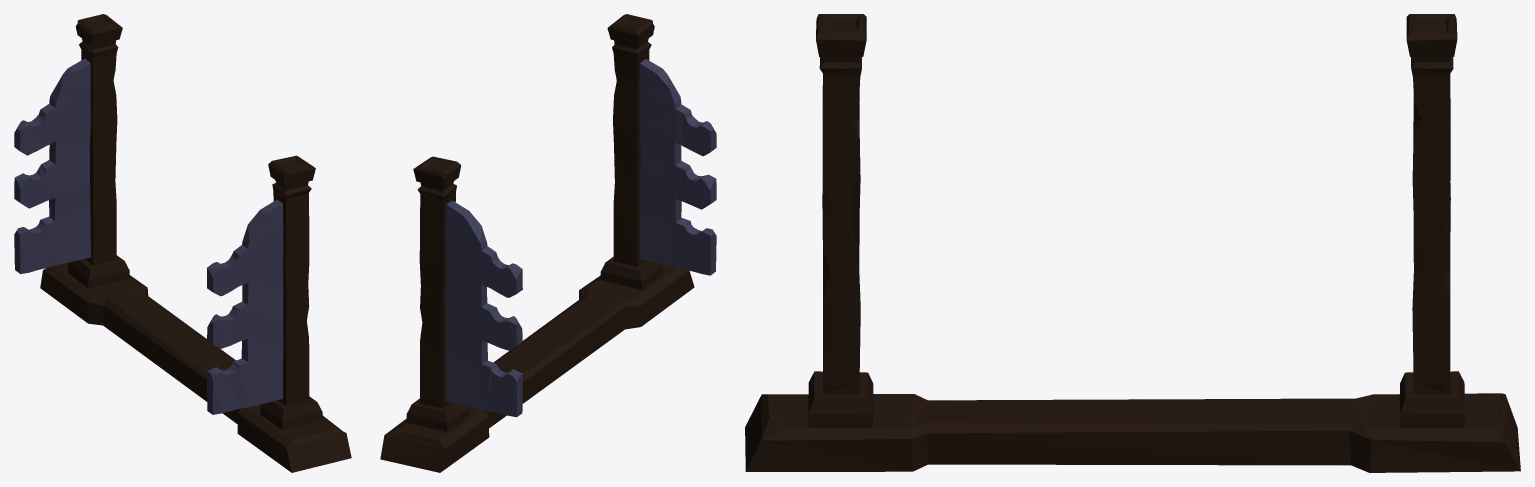
Rendered from SFFA_Weapon_Rack_005.fbx.
3 views of the same model, side by side, from view 1: azimuth 30°, elevation 25°; view 2: azimuth 150°, elevation 25°; view 3: azimuth 270°, elevation 25° (orthographic). The views are drawn at different scales.
Parts seen in each view (by area): view 1: SFFA_Weapon_Rack_005; view 2: SFFA_Weapon_Rack_005; view 3: SFFA_Weapon_Rack_005.
Part boxes in pixels (x1,y1,x2,y2): SFFA_Weapon_Rack_005: (14,14,351,472); SFFA_Weapon_Rack_005: (380,14,716,472); SFFA_Weapon_Rack_005: (745,14,1520,472).
Size of the model in its own units: 36.15 by 86.09 by 142.
